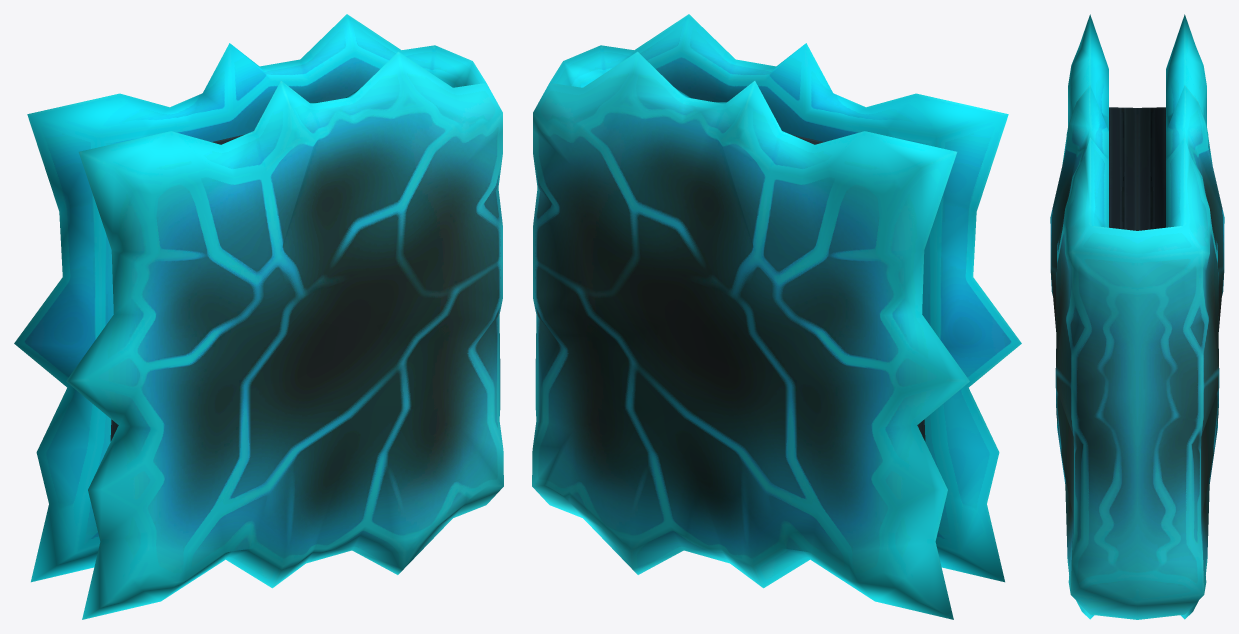
The model's file is item_weabokmgm2501-et03.glb.
3 views of the same model, side by side, from view 1: azimuth 30°, elevation 25°; view 2: azimuth 150°, elevation 25°; view 3: azimuth 270°, elevation 25° (orthographic). The views are drawn at different scales.
Visible parts, largest first — view 1: FlyffMesh; view 2: FlyffMesh; view 3: FlyffMesh.
Part boxes in pixels (box(x1,y1,x2,y2)): FlyffMesh: box(14, 14, 503, 619); FlyffMesh: box(532, 14, 1021, 619); FlyffMesh: box(1050, 14, 1224, 619).
Size of the model in its own units: 0.5095 by 0.57 by 0.1864.
Materials: 1 (1 with a texture image).
